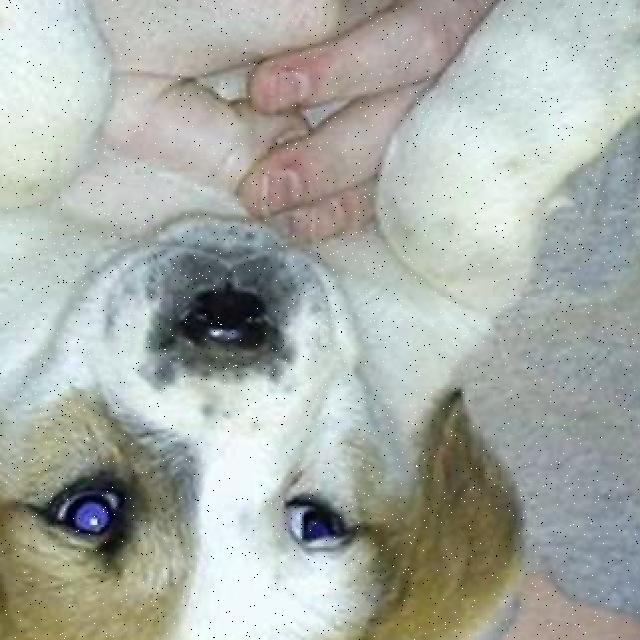Dog: (0, 165, 533, 640)
